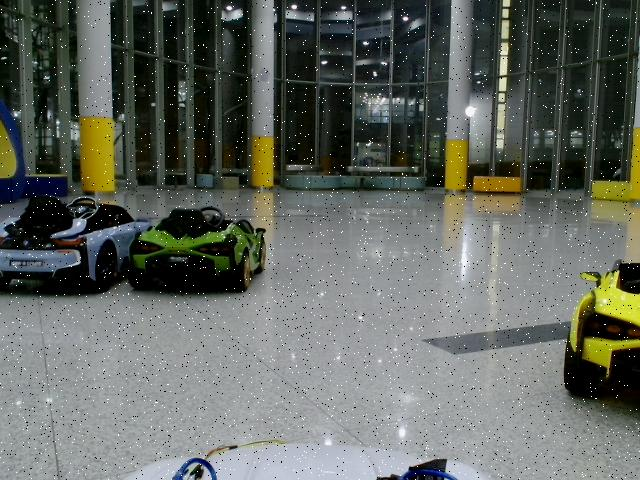car: (2, 195, 154, 294), (130, 207, 268, 293), (565, 260, 640, 398)
